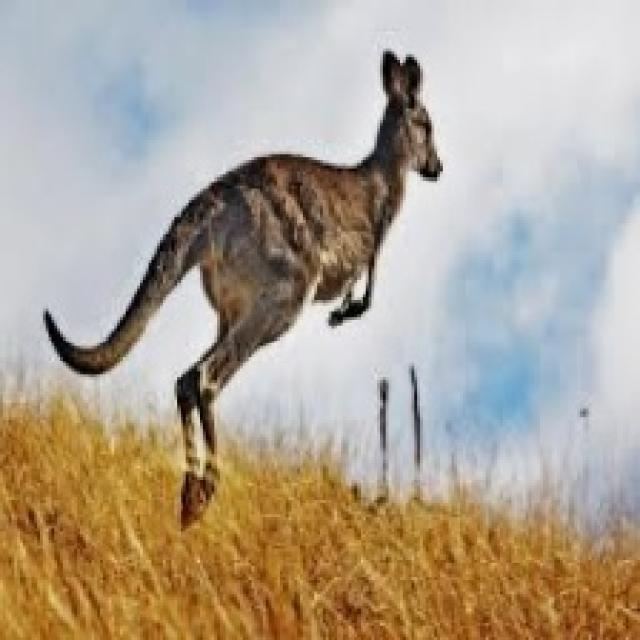bear: (14, 49, 533, 562)
